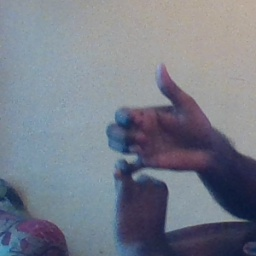S: (101, 60, 207, 224)
